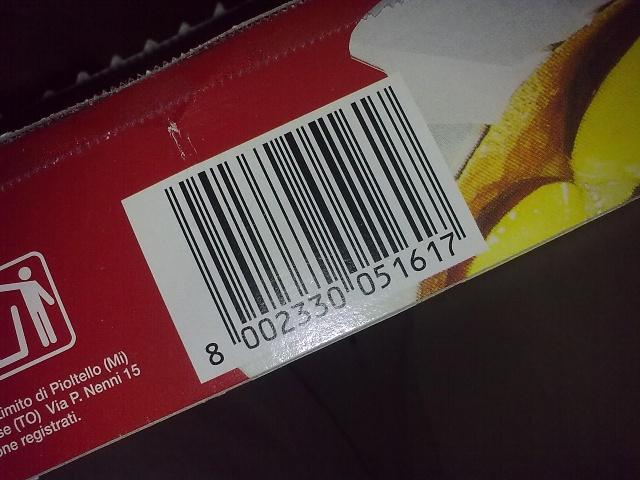Barcode: (155, 81, 474, 378)
